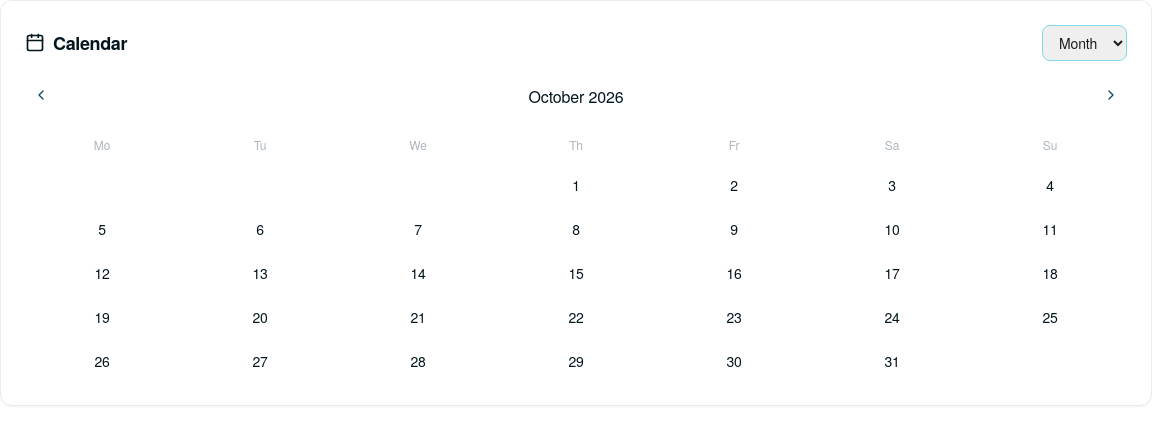
DashboardCalendar › switches to day view
Select "Day" in the dropdown showing "Month" at (1084,43), box [1042,25,1127,61]
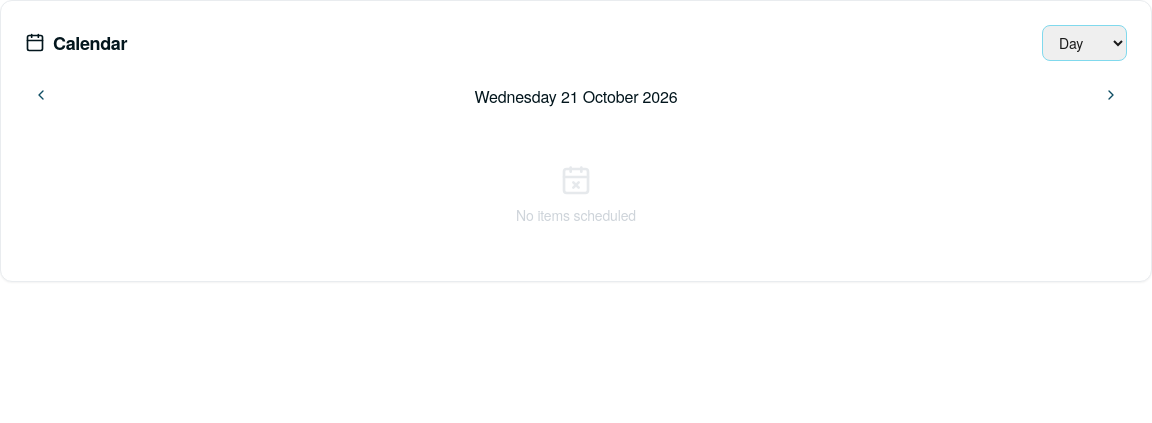
Now the text "No items scheduled" is shown, box [516,205,636,225]
